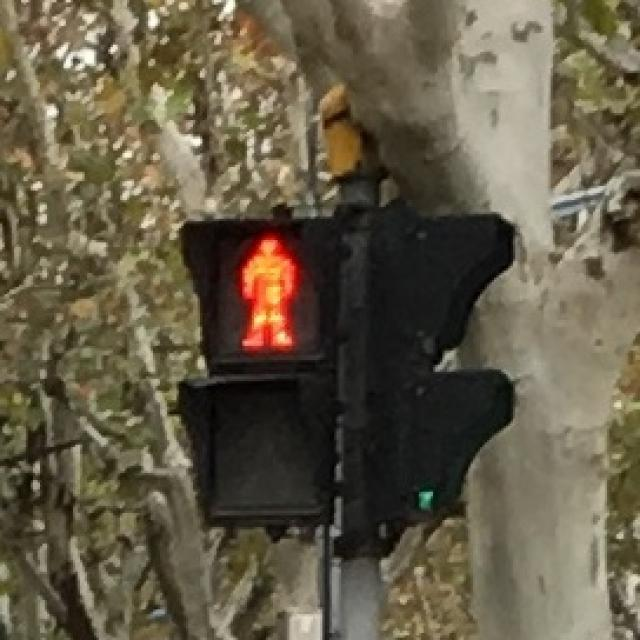red-crossing: (212, 224, 318, 358)
